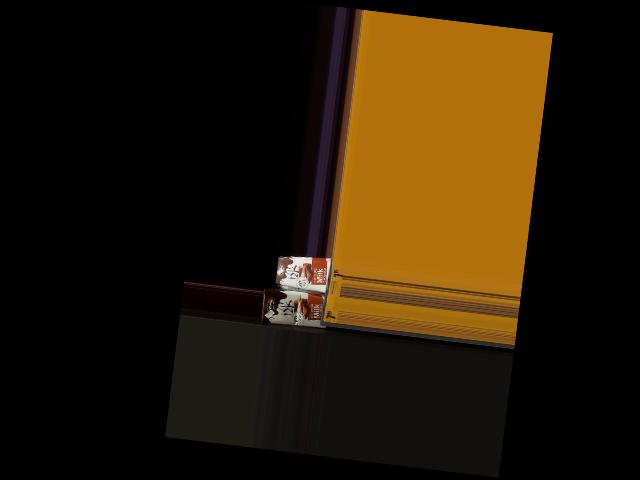chocolate: (273, 249, 338, 293)
